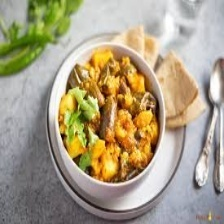roti: (157, 51, 206, 130)
